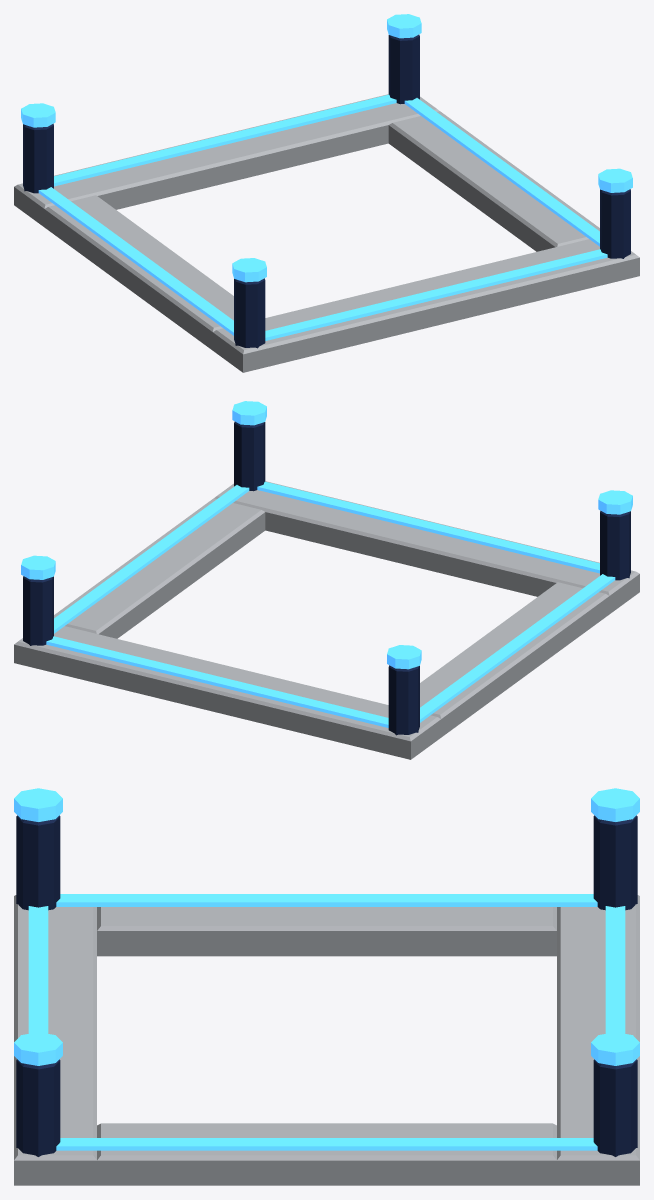
The model's file is PadRing_padB.glb.
3 renders of one model, top to bottom at view 1: azimuth 30°, elevation 25°; view 2: azimuth 150°, elevation 25°; view 3: azimuth 270°, elevation 25°, orthographic. The views are drawn at different scales.
Parts seen in each view (by area): view 1: PadRing_padB, PadRing_padB_Glow_padB; view 2: PadRing_padB, PadRing_padB_Glow_padB; view 3: PadRing_padB, PadRing_padB_Glow_padB.
Boxes of the visible parts, x1=… form: PadRing_padB: x1=14, y1=34, x2=639, y2=372; PadRing_padB_Glow_padB: x1=21, y1=14, x2=632, y2=340; PadRing_padB: x1=14, y1=421, x2=639, y2=759; PadRing_padB_Glow_padB: x1=21, y1=401, x2=632, y2=727; PadRing_padB: x1=14, y1=815, x2=639, y2=1185; PadRing_padB_Glow_padB: x1=14, y1=788, x2=639, y2=1150.
Size of the model in its own units: 12.8 by 3 by 12.8.
Materials: 2 (1 with a texture image).
